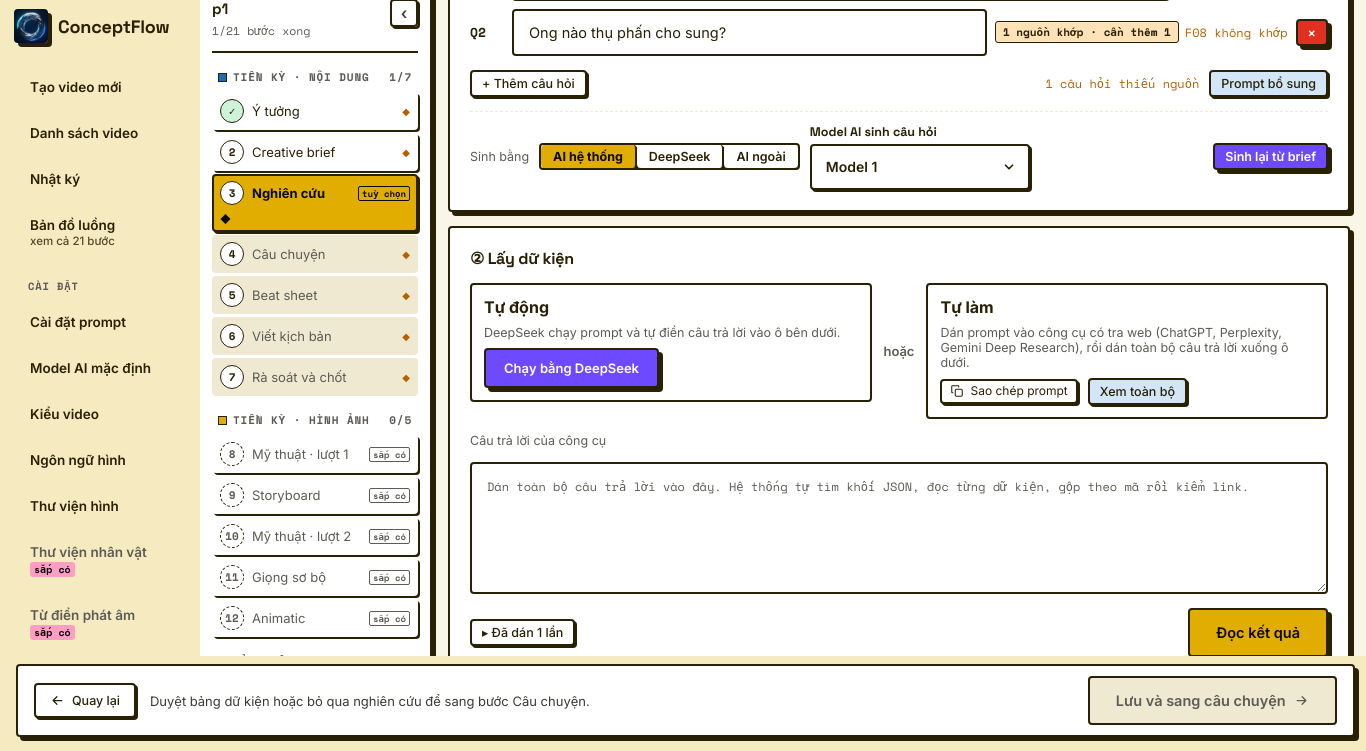
Test: ResearchStepPage › keeps DeepSeek's answer in section 3 when the server cannot read it
(page scrolled)
Click the button with test id "research-bridge-run".
click(572, 368)  # box 484,348 -> 659,388
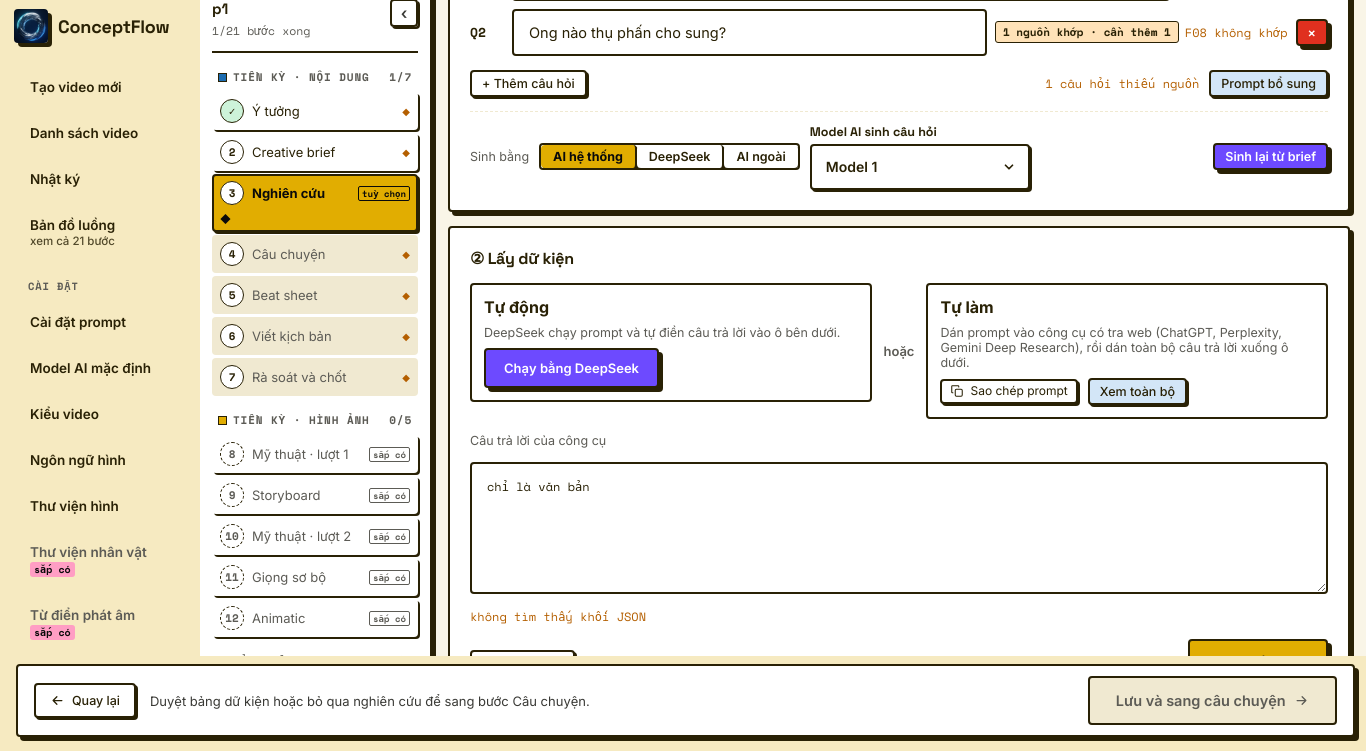
expect the message with test id "research-paste-message" reads "không tìm thấy khối JSON": met, box 470,608 -> 646,625
expect the text box with test id "research-paste-input" holds "chỉ là văn bản": met, box 470,462 -> 1328,594
